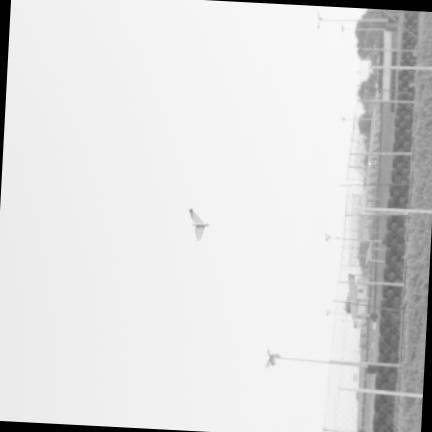Shahed: (189, 209, 208, 239)
